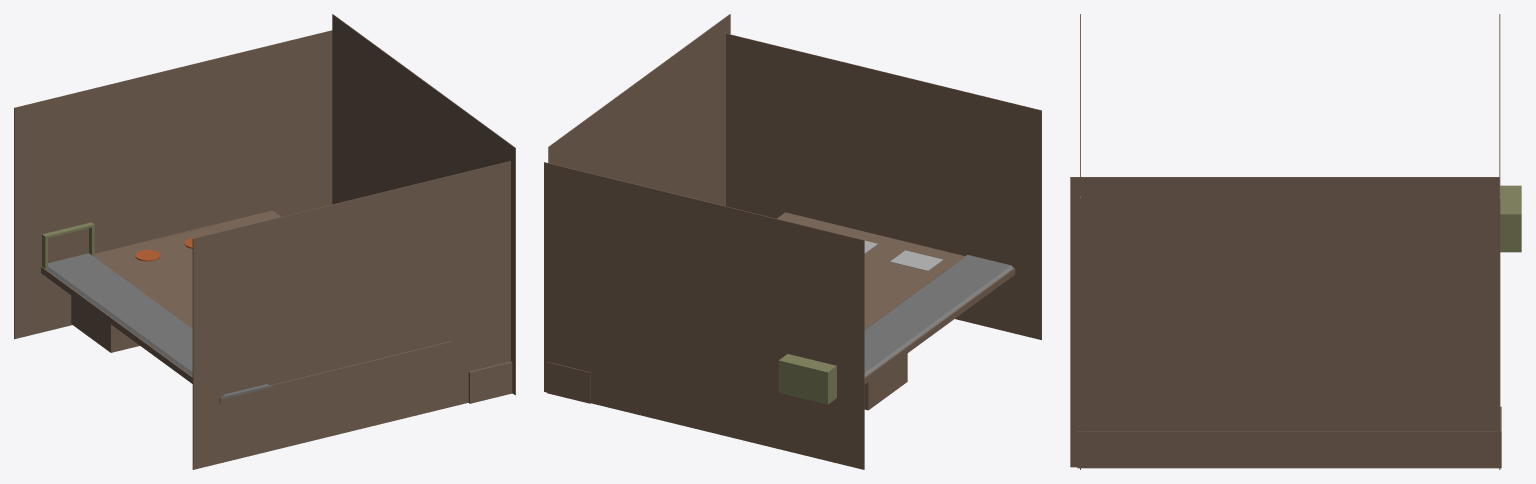
Rendered from layout.fbx.
The picture shows the model from 3 angles, left to right: view 1: azimuth 30°, elevation 25°; view 2: azimuth 150°, elevation 25°; view 3: azimuth 270°, elevation 25°; orthographic projection. The views are drawn at different scales.
Parts seen in each view (by area): view 1: pCube15, pCube2, pasted__pCube1, pCube1, pCube4, pCube3; view 2: pCube2, pCube15, pasted__pCube1, pCube4, pCube1, pCube3, pCube9; view 3: pasted__pCube1, pCube3, pCube4, pCube2.
Boxes of the visible parts, <box> form: pCube15: <box>192,161,510,469</box>; pCube2: <box>14,30,332,339</box>; pasted__pCube1: <box>332,14,515,395</box>; pCube1: <box>41,210,451,404</box>; pCube4: <box>42,222,271,398</box>; pCube3: <box>468,361,512,403</box>; pCube2: <box>544,162,864,469</box>; pCube15: <box>726,33,1041,339</box>; pasted__pCube1: <box>548,14,730,206</box>; pCube4: <box>778,255,1013,404</box>; pCube1: <box>777,212,1015,410</box>; pCube3: <box>547,362,590,403</box>; pCube9: <box>890,250,942,271</box>; pasted__pCube1: <box>1070,177,1499,467</box>; pCube3: <box>1077,406,1501,468</box>; pCube4: <box>1500,185,1521,252</box>; pCube2: <box>1499,14,1500,469</box>.
Bounding box in the file's own units: 445 × 326 × 459.
